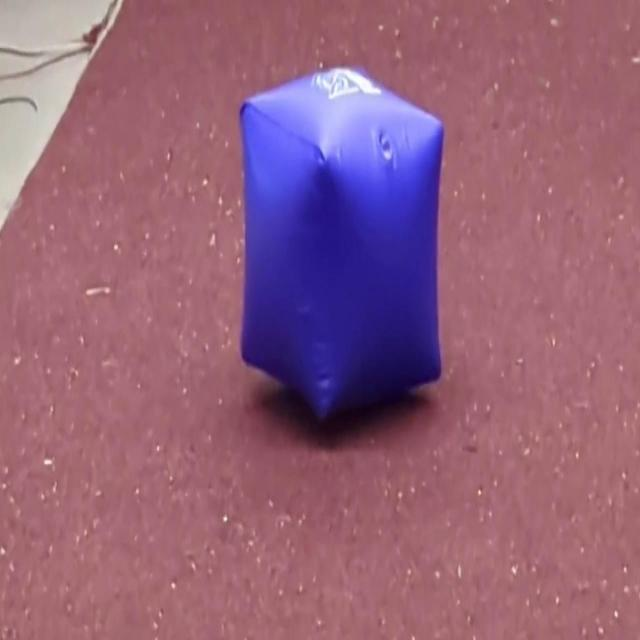frc_cube: (236, 61, 446, 431)
